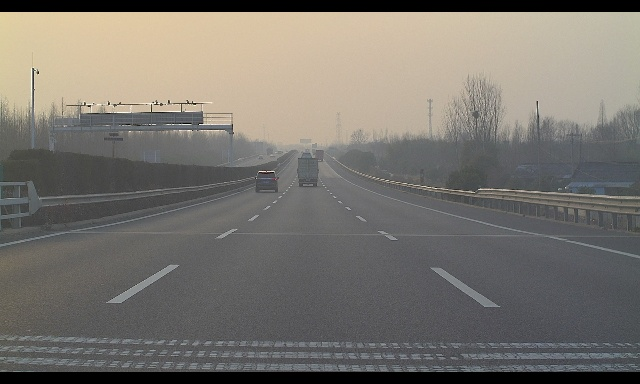car: (255, 171, 280, 192)
truck: (297, 158, 319, 187), (301, 152, 312, 167), (315, 150, 324, 161), (266, 147, 273, 156)
